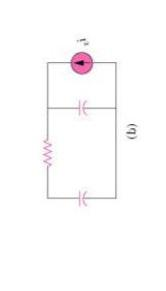resistor: (34, 129, 59, 176)
